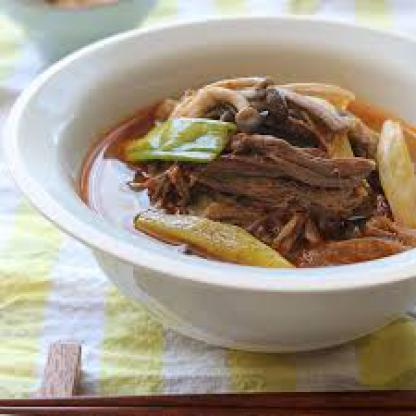spicy yuke jang: (80, 68, 414, 281)
